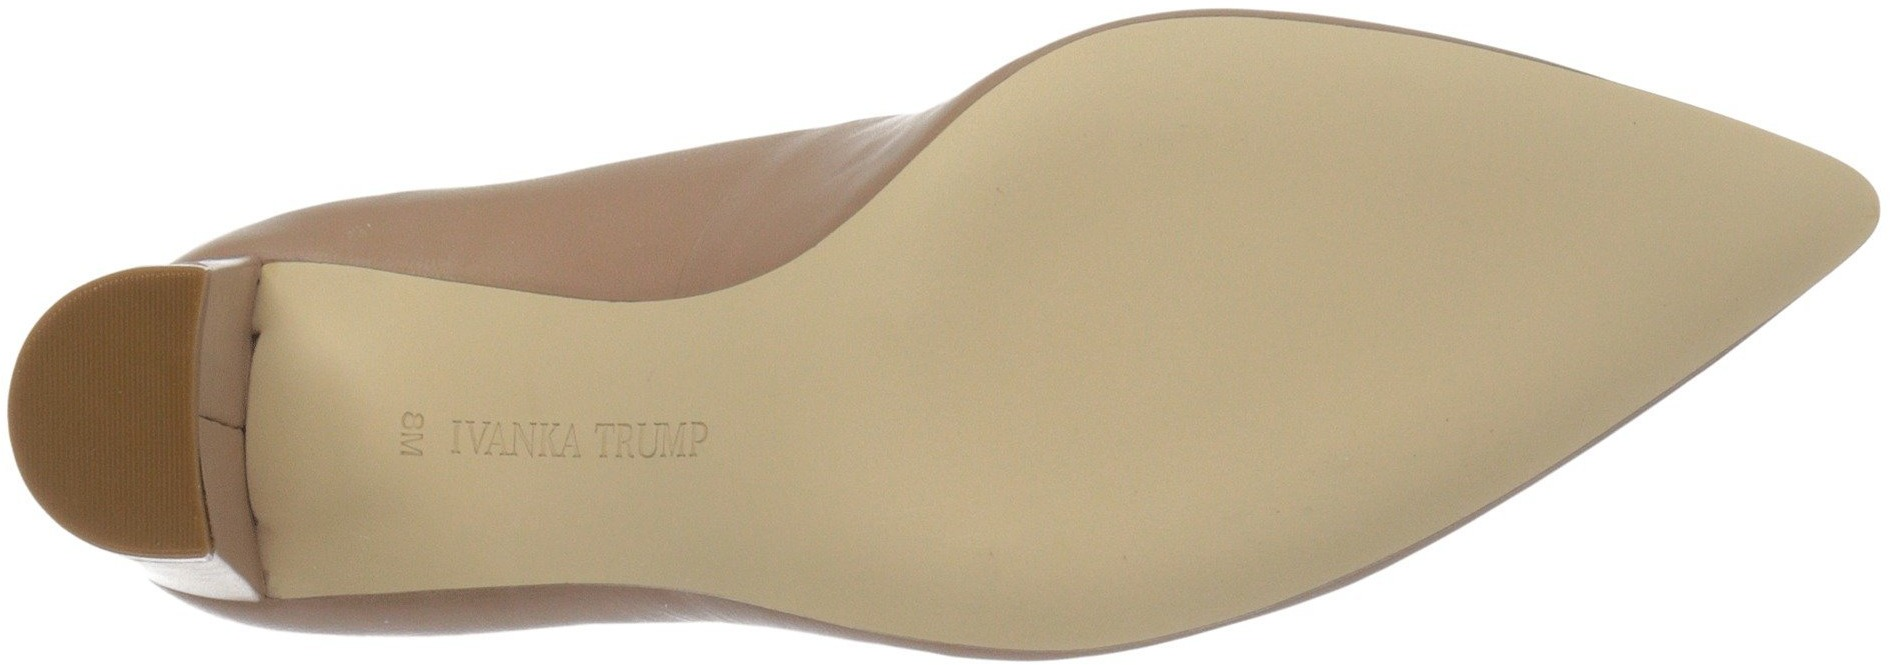exclude: (125, 90, 939, 659)
line: (13, 272, 206, 555), (49, 336, 178, 473)
other: (1060, 126, 1395, 446)
